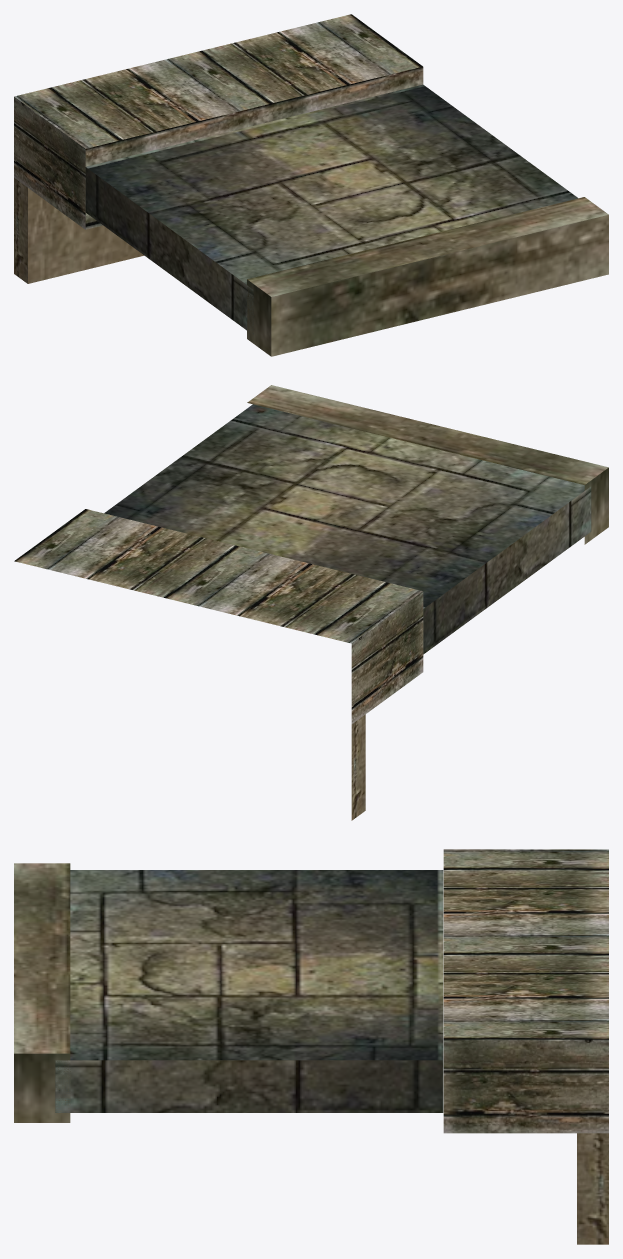
File: HouseWall01.glb
3 renders of one model, top to bottom at view 1: azimuth 30°, elevation 25°; view 2: azimuth 150°, elevation 25°; view 3: azimuth 270°, elevation 25°, orthographic. The views are drawn at different scales.
Parts seen in each view (by area): view 1: model_HouseWall01; view 2: model_HouseWall01; view 3: model_HouseWall01.
Boxes of the visible parts, x1,y1,x2,y2 form: model_HouseWall01: [14, 14, 608, 356]; model_HouseWall01: [14, 385, 608, 820]; model_HouseWall01: [14, 849, 608, 1244].
Bounding box in the file's own units: 2 × 1 × 2.64.
3 materials, 3 textured.
